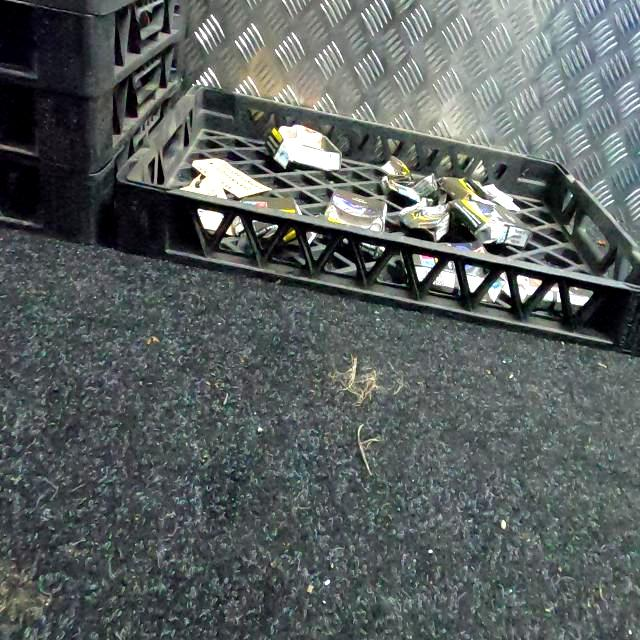Paper: (450, 195, 532, 252), (262, 124, 338, 174), (378, 153, 442, 195), (322, 188, 388, 226), (228, 194, 308, 224), (392, 204, 448, 244)
